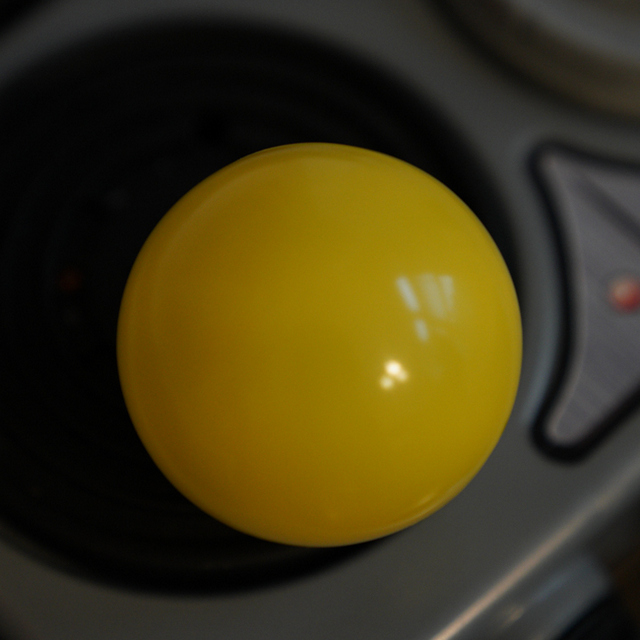Ball: (124, 144, 524, 538)
